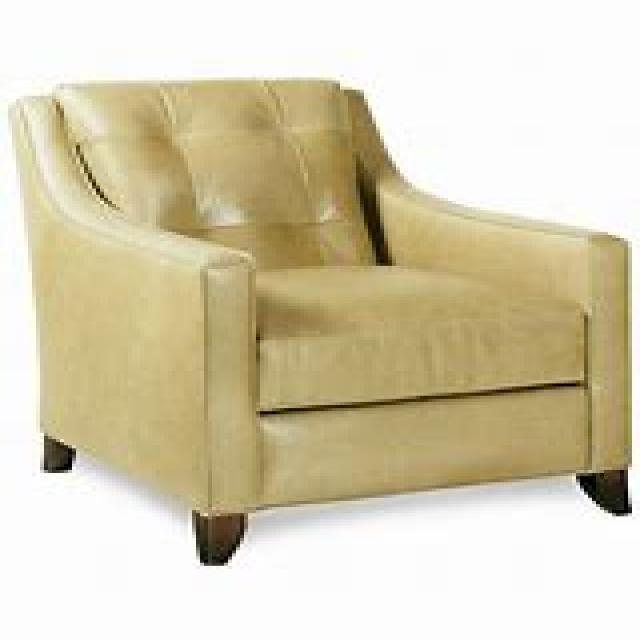chair: (4, 74, 632, 566)
